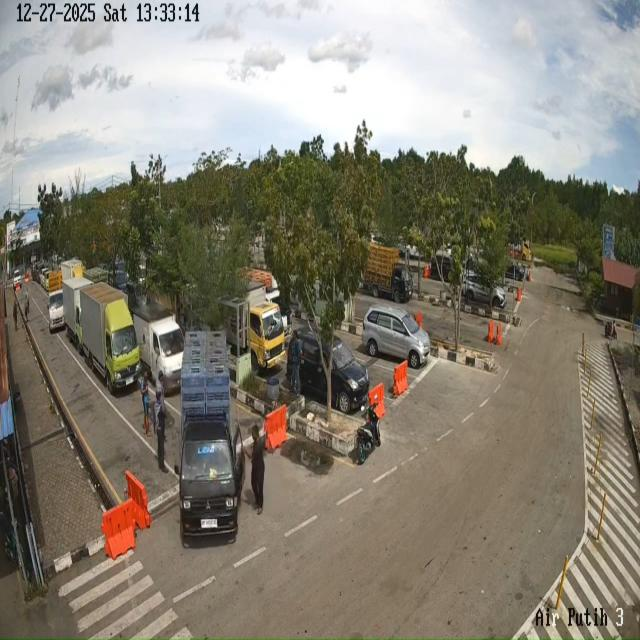Golongan IVA: (286, 328, 370, 414), (362, 304, 430, 368), (463, 271, 506, 309)
Golongan IVB: (176, 361, 239, 545), (363, 243, 413, 303), (47, 270, 65, 332)
Golongan VB: (79, 282, 141, 393), (223, 280, 286, 372), (130, 302, 184, 389), (62, 276, 92, 352)
